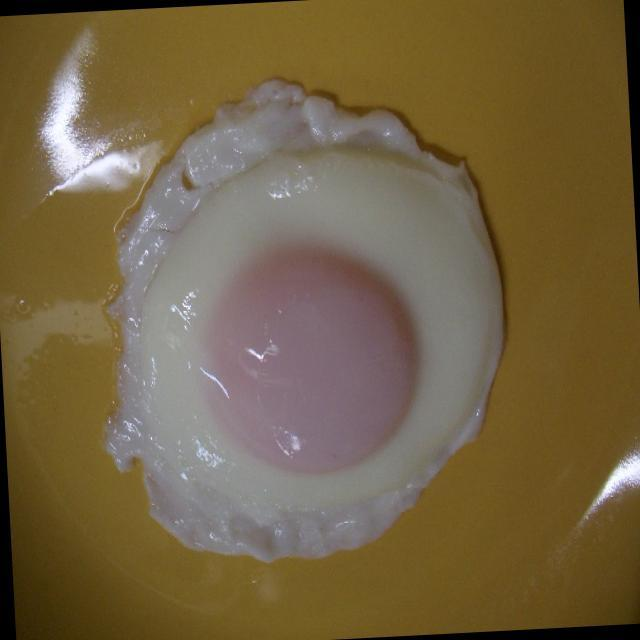Egg: (85, 71, 527, 574)
